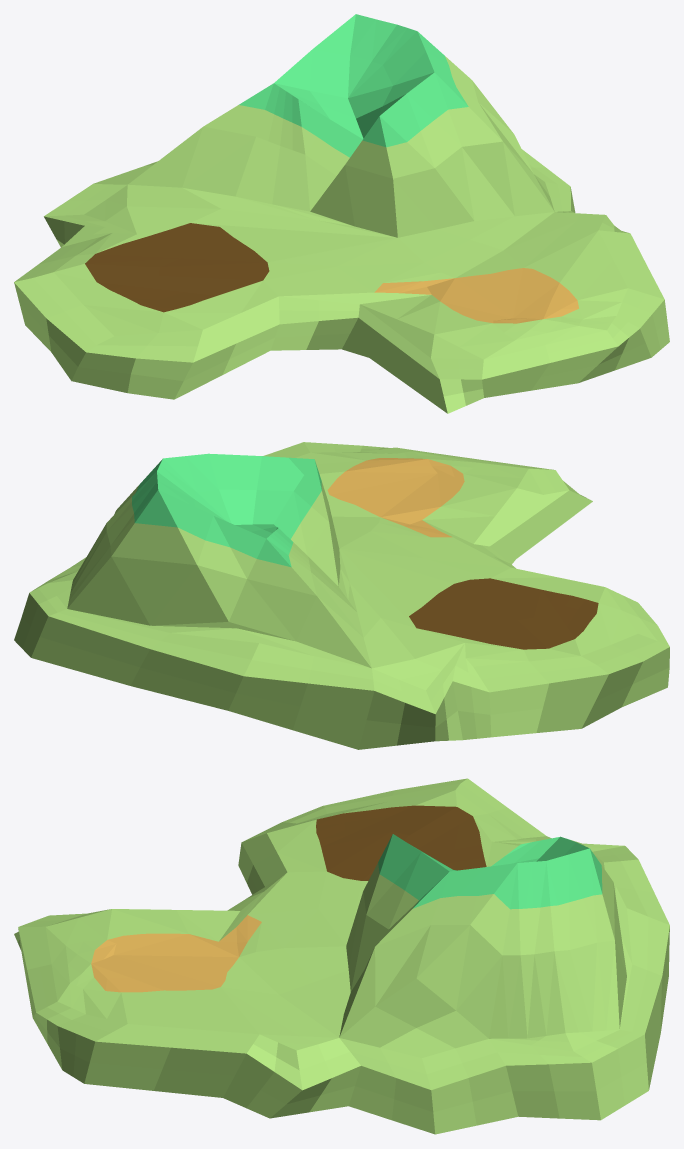
Rendered from mountain.fbx.
3 views of the same model, one above another, from view 1: azimuth 30°, elevation 25°; view 2: azimuth 150°, elevation 25°; view 3: azimuth 270°, elevation 25° (orthographic). The views are drawn at different scales.
Visible parts, largest first — view 1: bottom.003; view 2: bottom.003; view 3: bottom.003.
Part boxes in pixels (x1,y1,x2,y2): bottom.003: (14, 14, 669, 413); bottom.003: (14, 442, 669, 749); bottom.003: (14, 778, 669, 1134).
Bounding box in the file's own units: 1843 × 613 × 1757.
